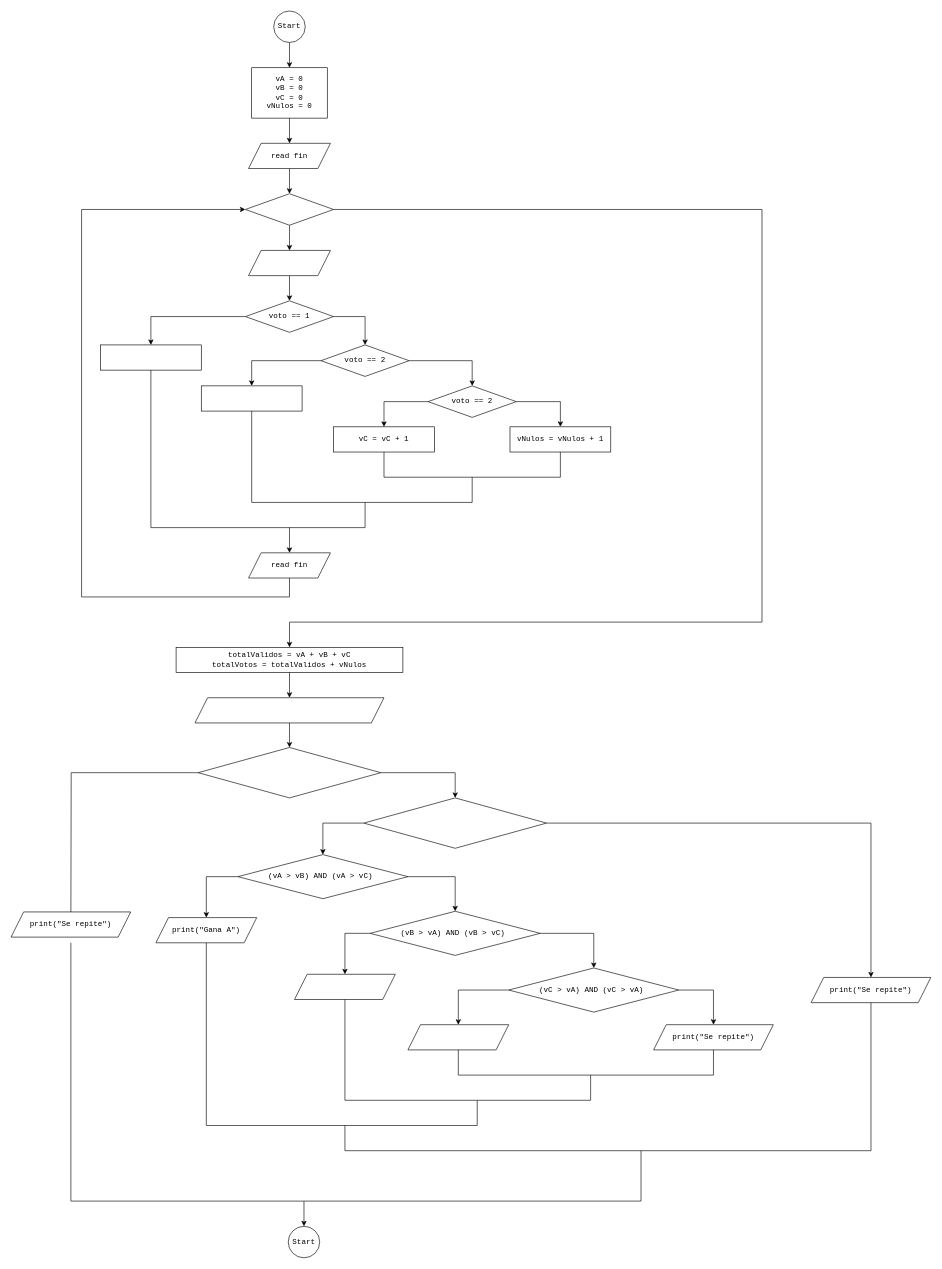
This 942x1269 diagram has some shape labels left out. The shapes that lost their labels are listed below. From the top down, each one's centre as x and y in pixels, then its label:
pixel 289 209: fin == 'n'
pixel 289 263: read voto
pixel 150 357: vA = vA + 1
pixel 251 398: vB = vB + 1
pixel 289 710: print(vA,vB,vC,vNulos)
pixel 289 772: vNulos >= totalValidos
pixel 455 822: (vA == vB) AND (vB == vC)
pixel 344 986: print("Gana B")
pixel 458 1037: print("Gana C")
